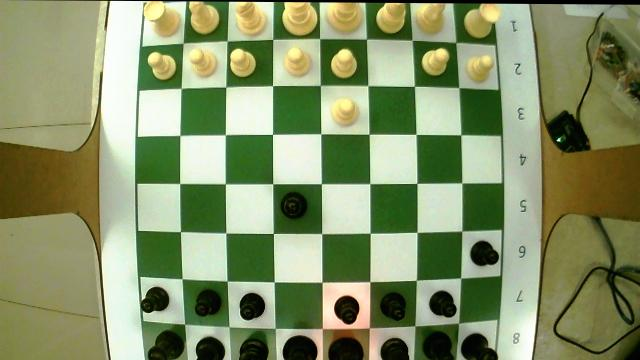piece: (326, 2, 363, 36), (148, 326, 183, 359), (283, 2, 315, 35), (464, 5, 493, 36), (462, 333, 495, 360), (328, 334, 362, 360), (376, 3, 405, 33), (466, 4, 498, 31), (423, 331, 452, 360), (375, 3, 403, 32), (236, 2, 264, 31), (152, 7, 180, 36), (285, 2, 309, 35), (416, 3, 444, 31), (240, 331, 267, 360), (331, 49, 357, 79), (283, 336, 316, 359), (192, 3, 219, 31), (196, 286, 223, 314), (228, 49, 255, 76), (148, 52, 175, 79), (190, 47, 216, 75), (284, 48, 310, 75), (379, 293, 406, 319), (420, 48, 447, 73), (331, 49, 355, 77), (335, 296, 359, 323), (331, 99, 358, 123), (380, 337, 407, 360), (286, 47, 308, 75), (472, 240, 496, 265), (282, 193, 306, 218), (240, 292, 263, 318), (196, 337, 223, 359), (467, 55, 492, 78), (143, 286, 167, 309), (430, 293, 455, 315), (333, 98, 355, 122)
